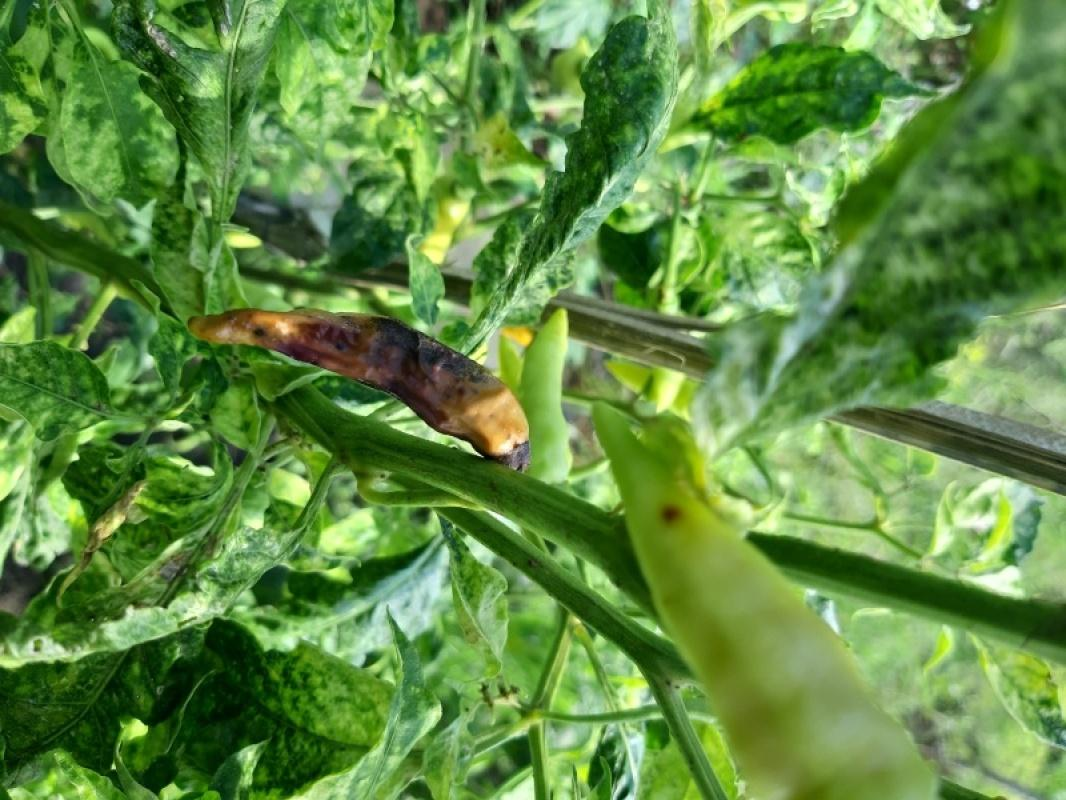antraknosa: (184, 304, 532, 457)
cabai_normal: (519, 308, 573, 490)
lalat_buah: (591, 401, 938, 800)
